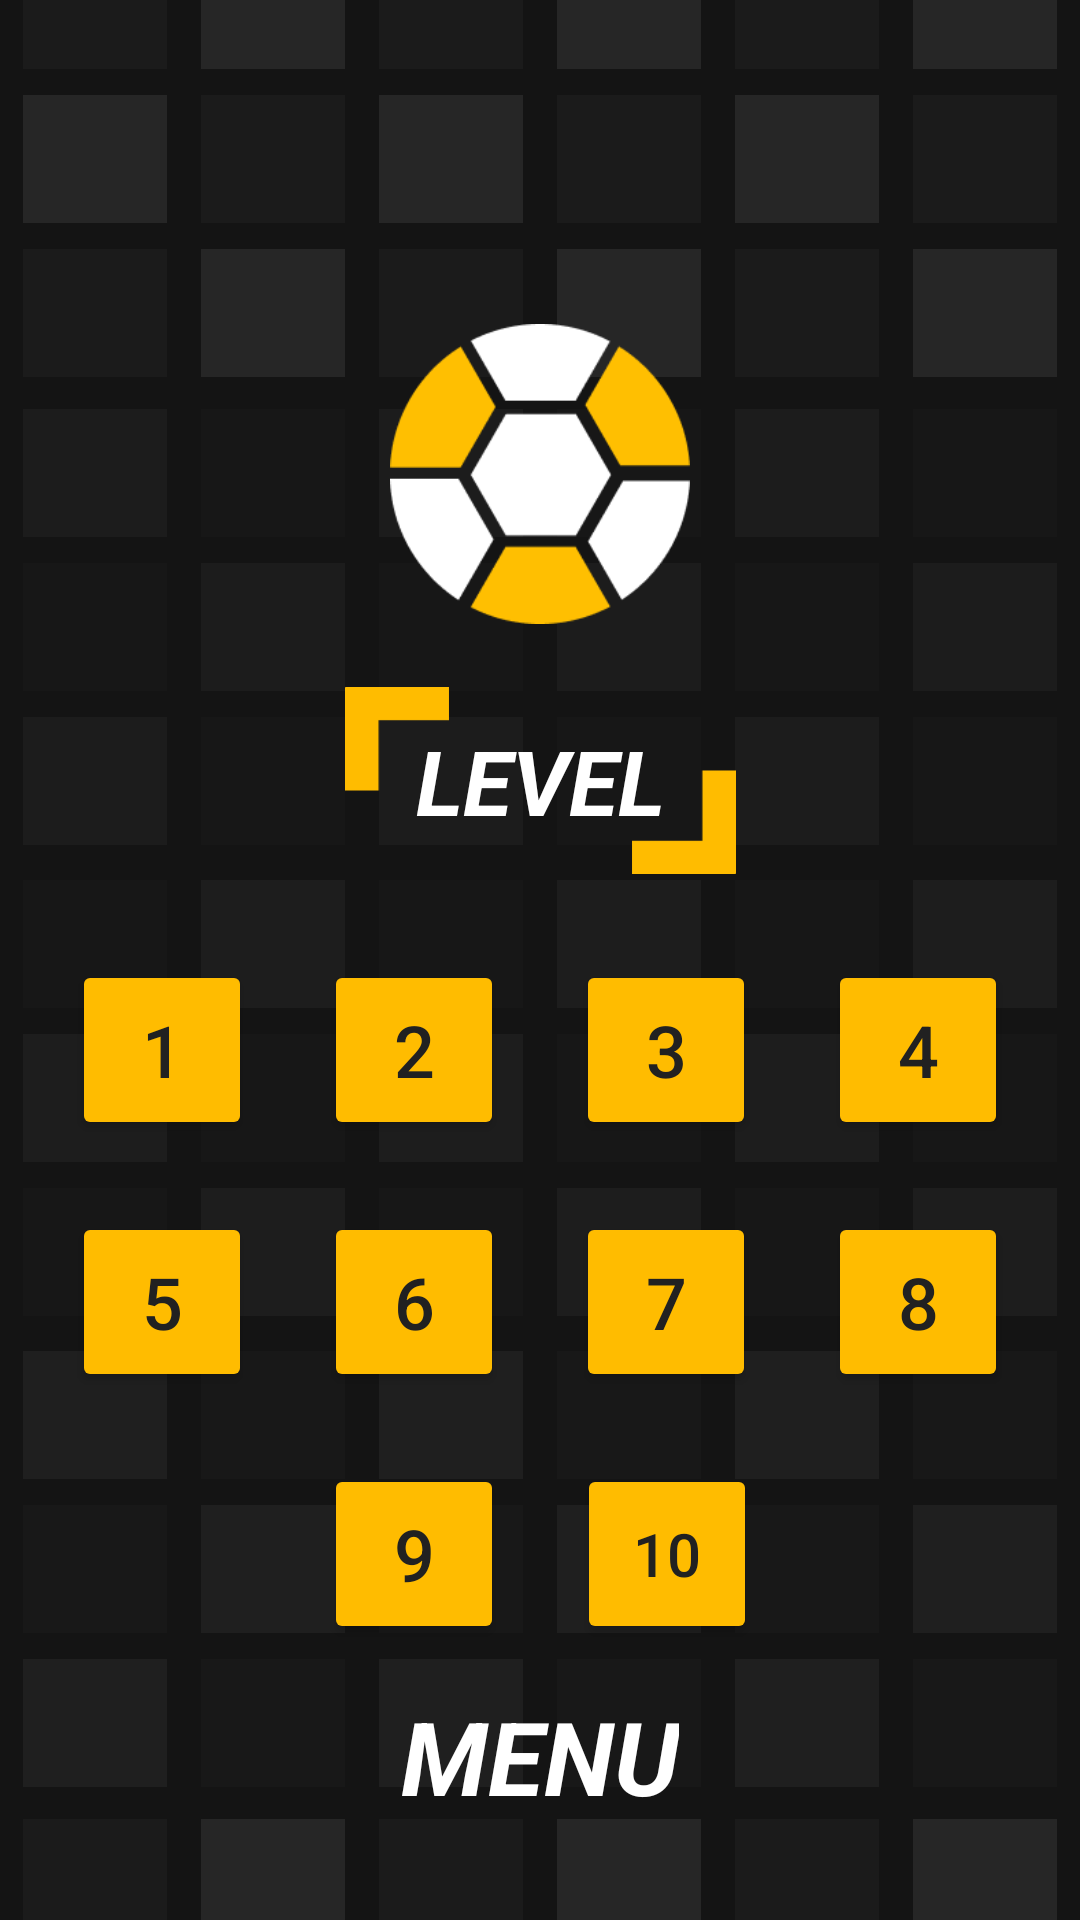

Screen size 1080px x 1920px. Icon name, then its box in pixels as Rect(x1, y1, x2, y2):
ball: Rect(390, 324, 690, 624)
